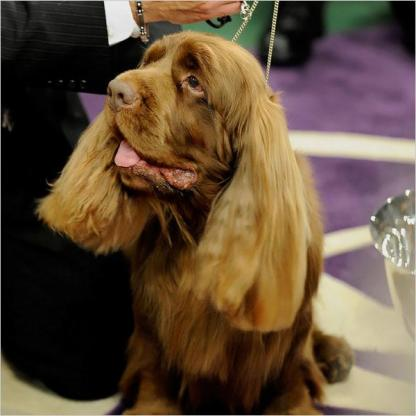Sussex_spaniel: (32, 28, 353, 413)
